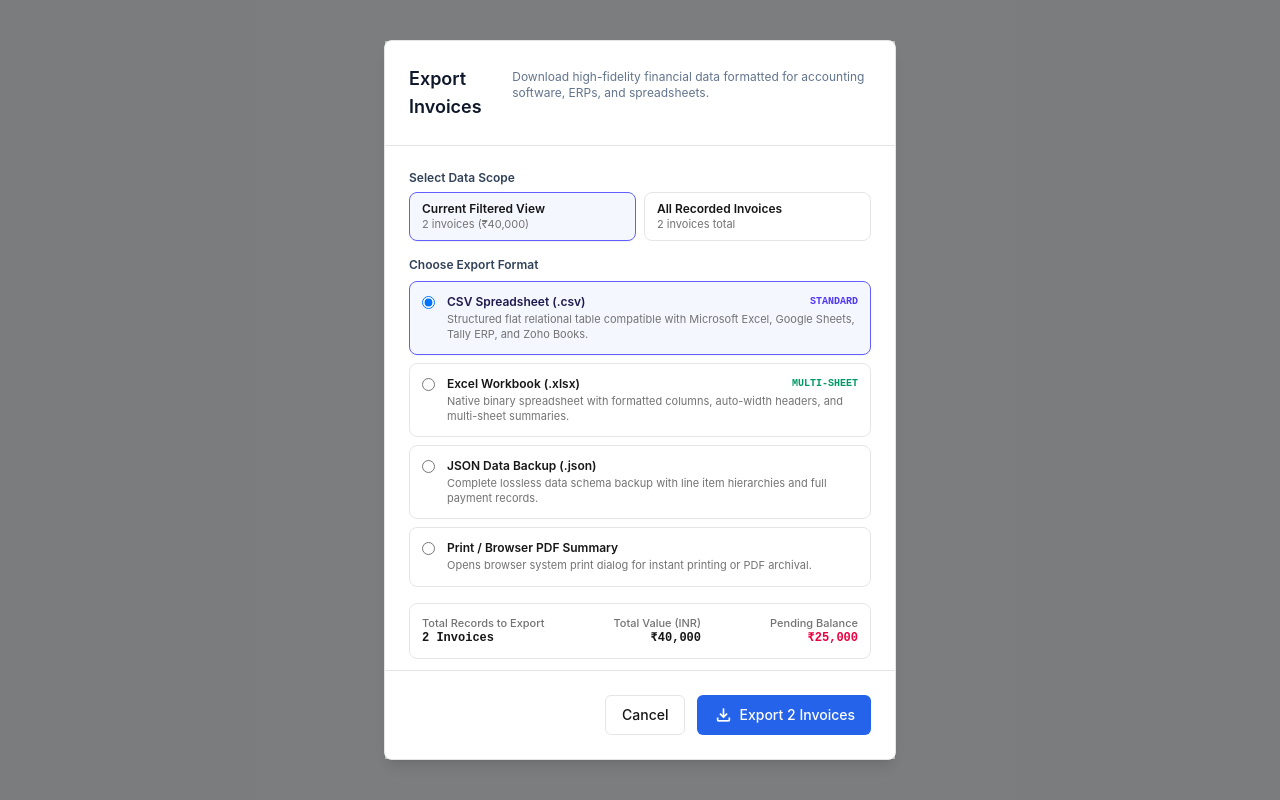
Test: ExportModal Component › allows selecting Excel export format
Click the radio button labelled "Excel Workbook" at (428, 384), box [422,378,435,391]
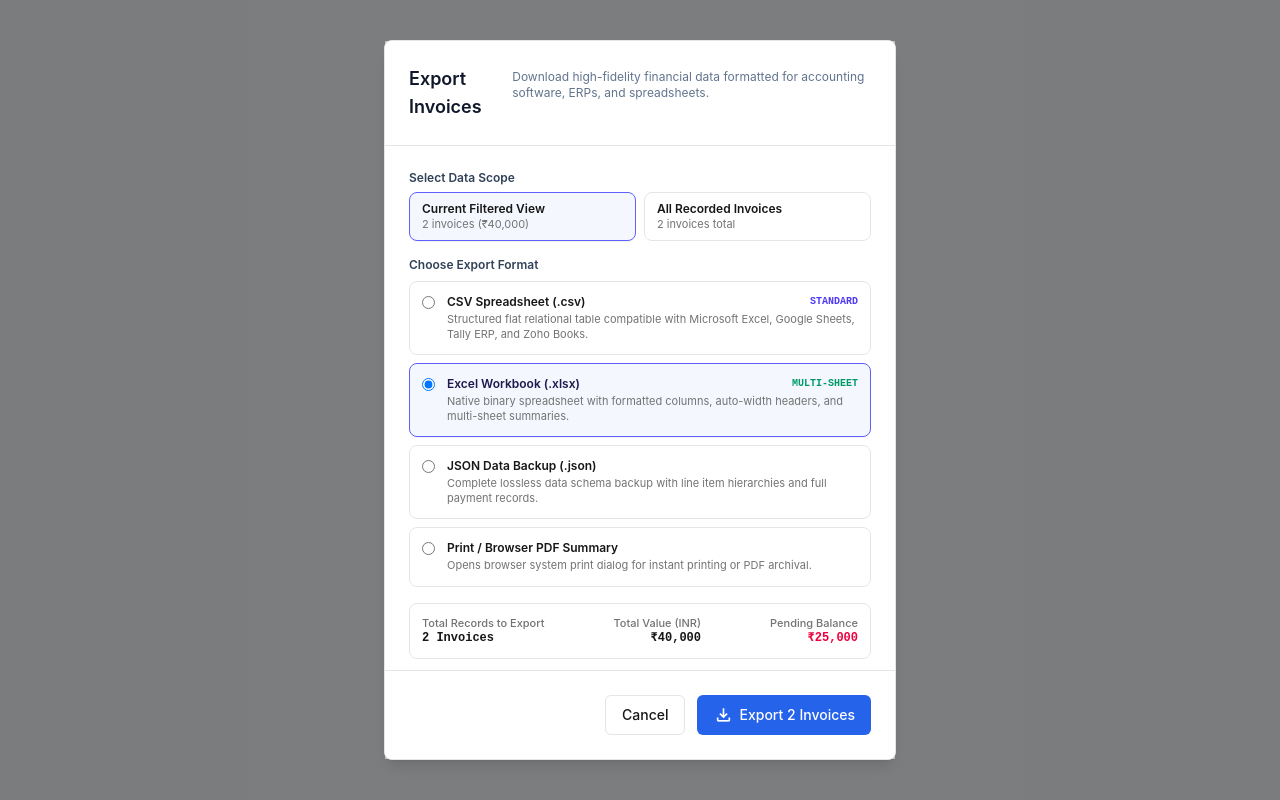
Result: the radio button labelled "Excel Workbook" is checked at [422,378,435,391]
Result: the radio button labelled "CSV Spreadsheet" is not checked at [422,296,435,309]
